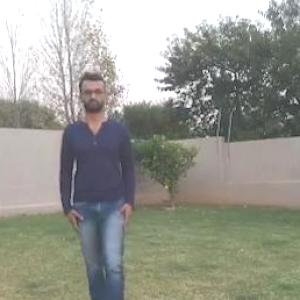follow: (73, 89, 134, 299)
